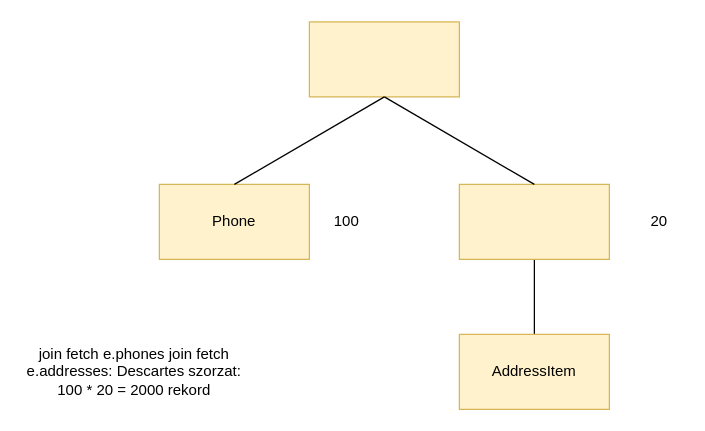
This 705x431 diagram has some shape labels left out. Each missing label, with the box of its shape:
Address: (458, 183, 609, 259)
Employees: (308, 21, 459, 97)
